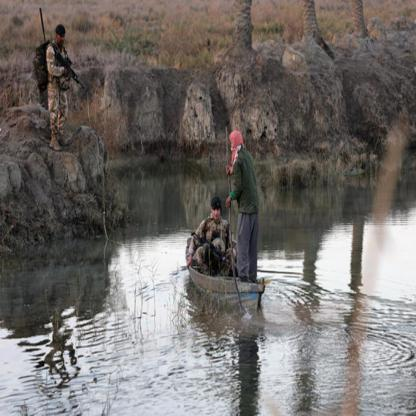face: (213, 205, 221, 220), (58, 32, 66, 46)
